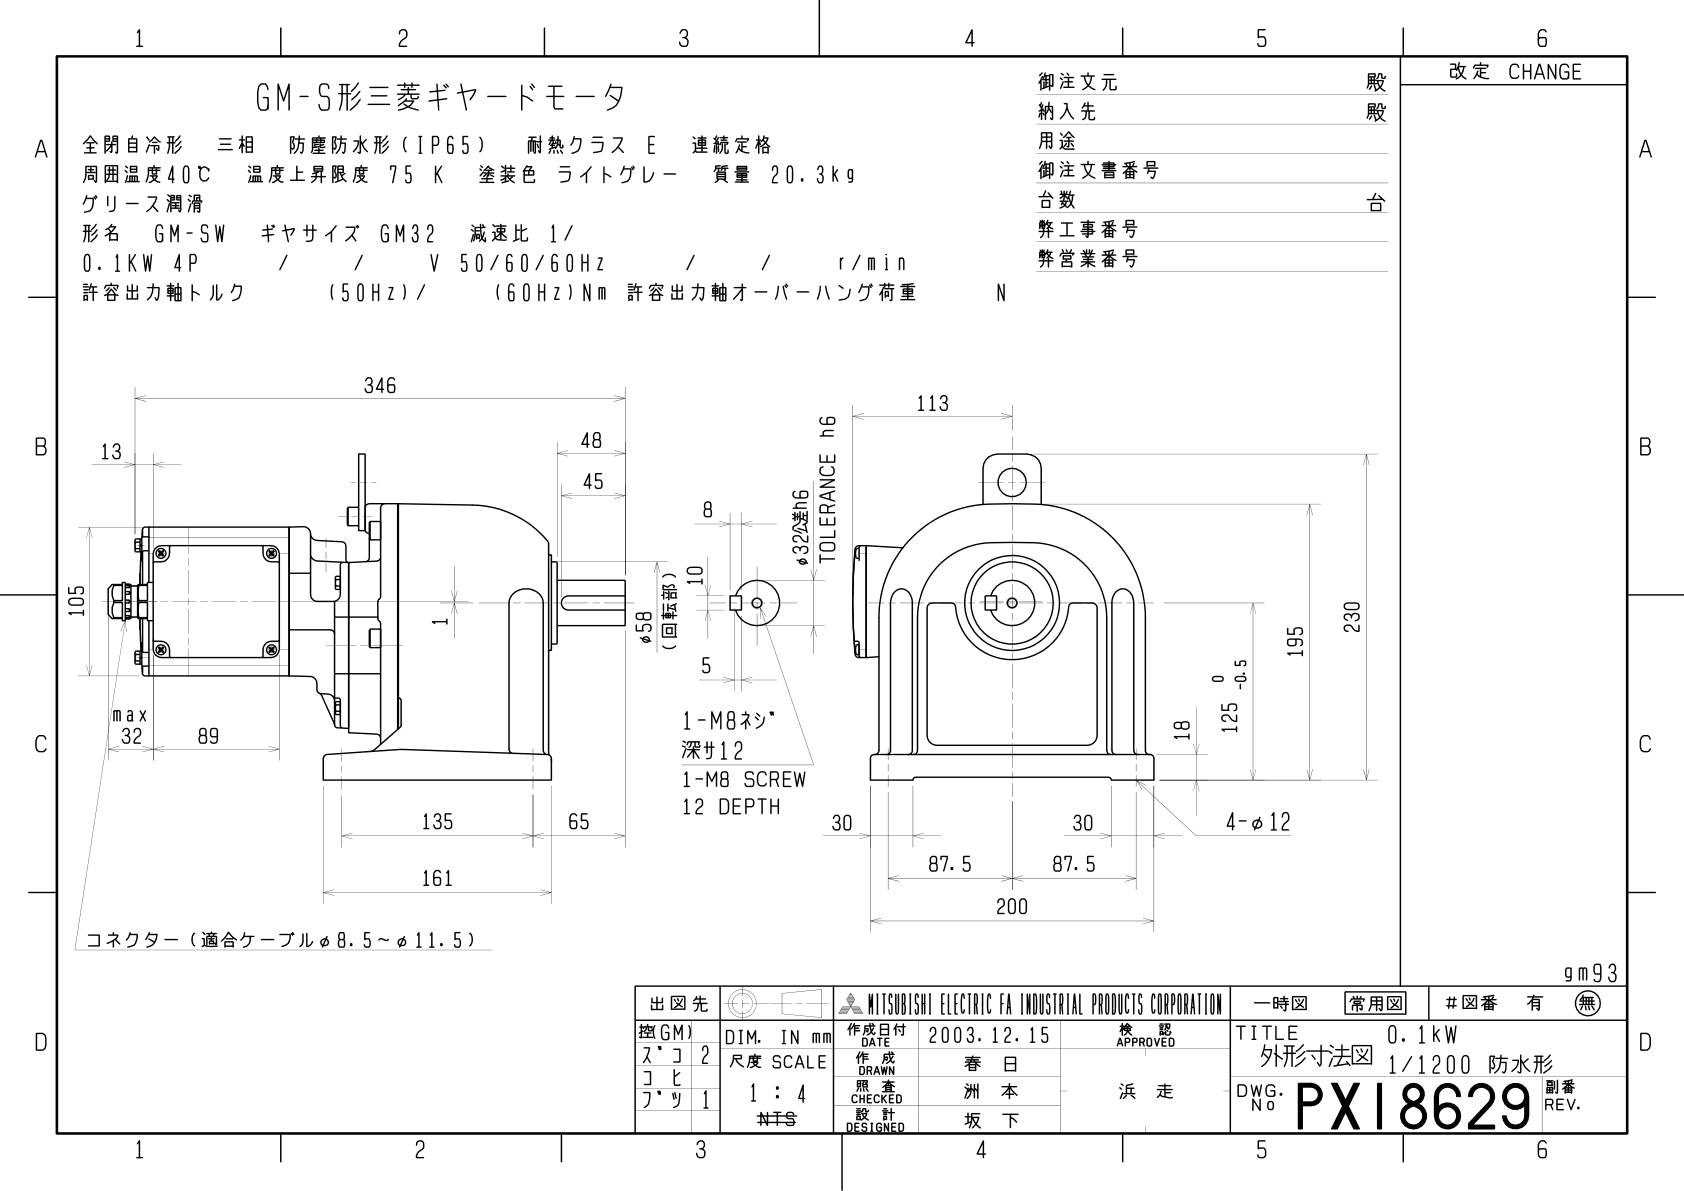GM_S_IP65＿三相_脚: (1, 1, 1680, 1167)
